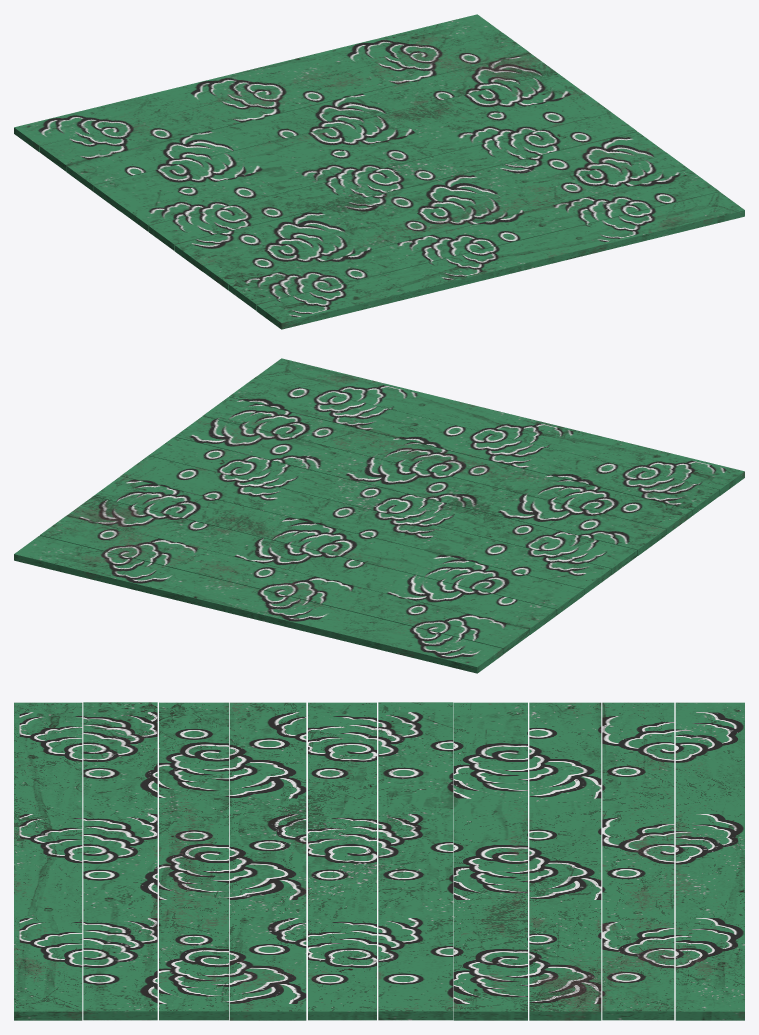
Rendered from SM_Ceiling01a.fbx.
The picture shows the model from 3 angles, top to bottom: view 1: azimuth 30°, elevation 25°; view 2: azimuth 150°, elevation 25°; view 3: azimuth 270°, elevation 25°; orthographic projection. The views are drawn at different scales.
Parts seen in each view (by area): view 1: SM_Ceiling01a; view 2: SM_Ceiling01a; view 3: SM_Ceiling01a.
Part boxes in pixels (x1,y1,x2,y2): SM_Ceiling01a: (14, 14, 744, 329); SM_Ceiling01a: (14, 358, 744, 673); SM_Ceiling01a: (14, 702, 744, 1020).
Size of the model in its own units: 300 by 300 by 4.14.
1 material, 1 textured.
